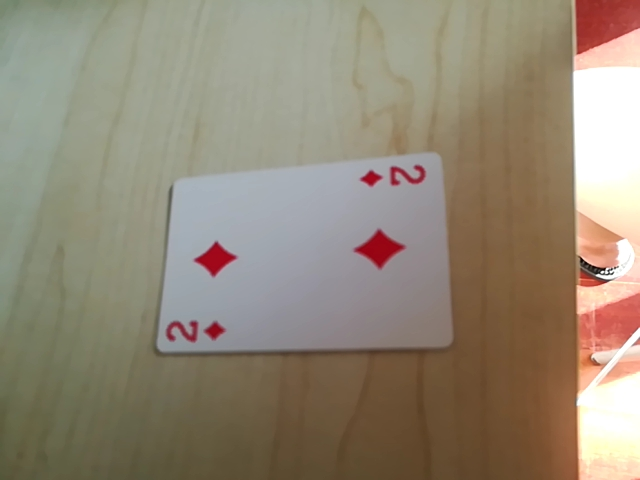fk 2: (357, 157, 435, 195), (161, 315, 235, 353), (582, 236, 632, 292)
